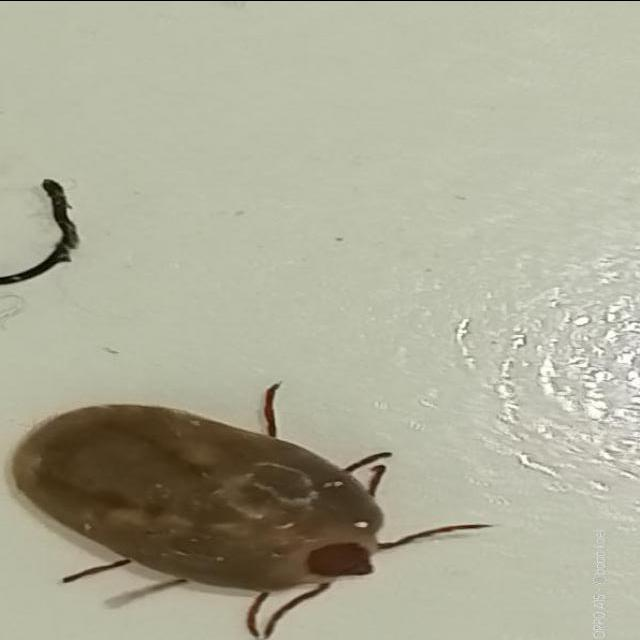Rhipicephalus Sanguineus-F-Fed: (4, 383, 496, 640)
